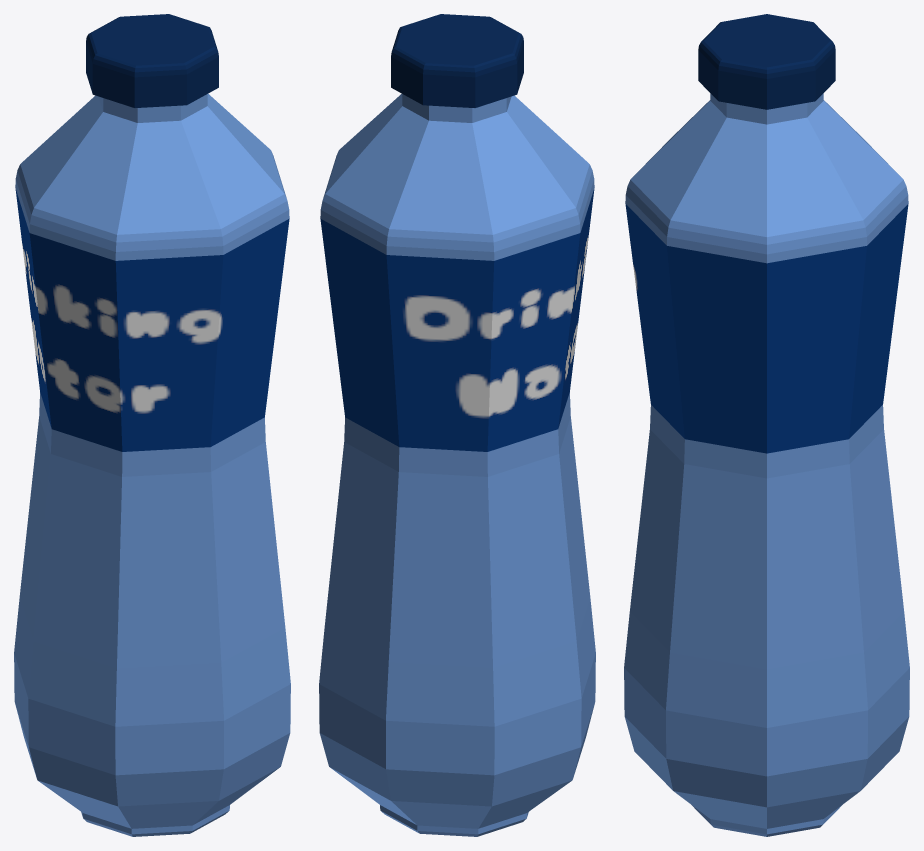
File: watter bottle textured.fbx
3 views of the same model, side by side, from view 1: azimuth 30°, elevation 25°; view 2: azimuth 150°, elevation 25°; view 3: azimuth 270°, elevation 25° (orthographic).
Parts seen in each view (by area): view 1: bottle, cap; view 2: bottle, cap; view 3: bottle, cap.
Boxes of the visible parts, x1=… form: bottle: x1=14, y1=94, x2=290, y2=836; cap: x1=86, y1=14, x2=218, y2=107; bottle: x1=319, y1=94, x2=595, y2=836; cap: x1=391, y1=14, x2=523, y2=107; bottle: x1=624, y1=93, x2=909, y2=836; cap: x1=698, y1=14, x2=835, y2=109.
Bounding box in the file's own units: 201 × 594 × 201.
